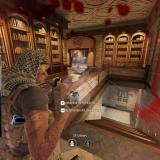Character: (1, 48, 82, 160), (72, 58, 78, 66), (71, 55, 74, 63)
Head: (15, 49, 50, 85), (76, 59, 78, 60), (72, 55, 74, 56)
